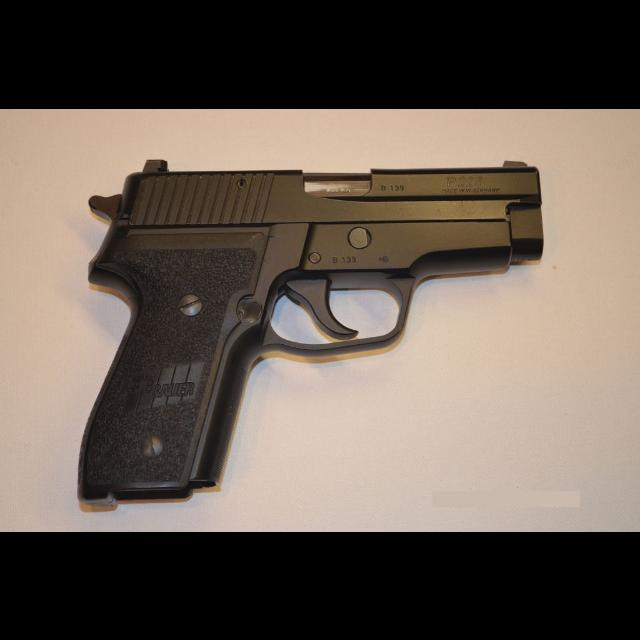handgun: (73, 153, 549, 512)
